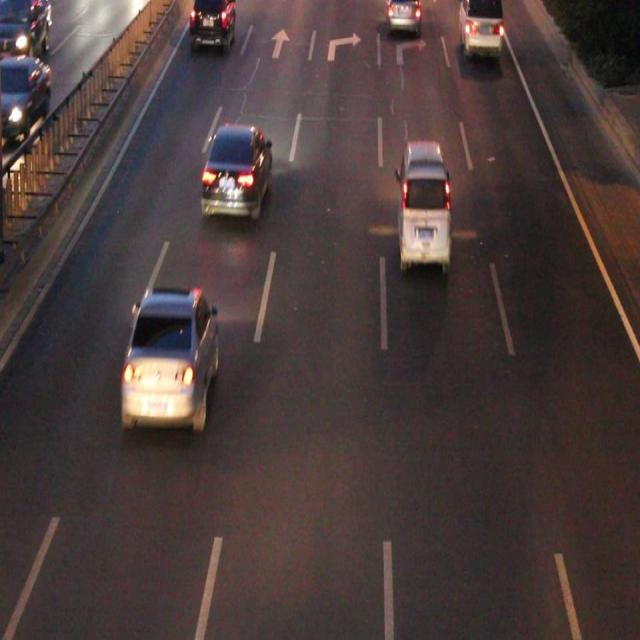car: (124, 291, 216, 421), (203, 124, 270, 214), (190, 1, 235, 45), (386, 1, 418, 31)
truck: (398, 143, 450, 268), (458, 1, 501, 54)
